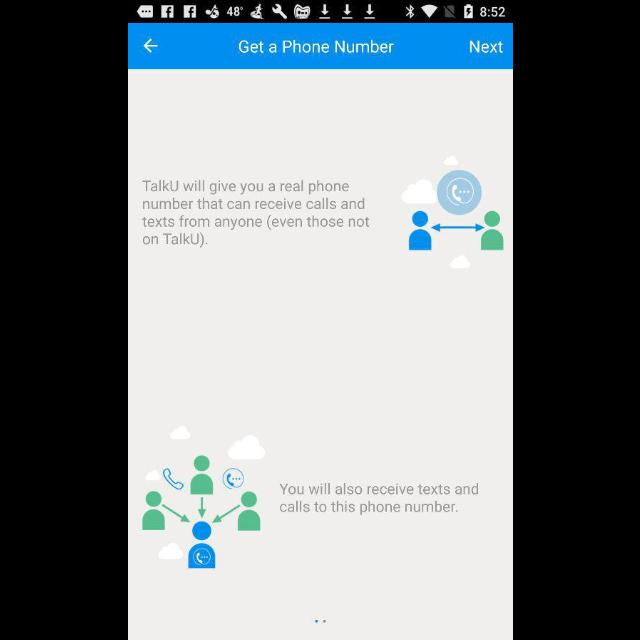icon: (143, 39, 157, 53)
image: (141, 426, 265, 568), (401, 154, 503, 270)
pageindicator: (314, 619, 326, 623)
text: (140, 180, 370, 248), (280, 482, 478, 516), (238, 40, 394, 54), (469, 40, 503, 54)
toolbar: (128, 24, 512, 70)
uppertaskbar: (128, 1, 512, 23)
